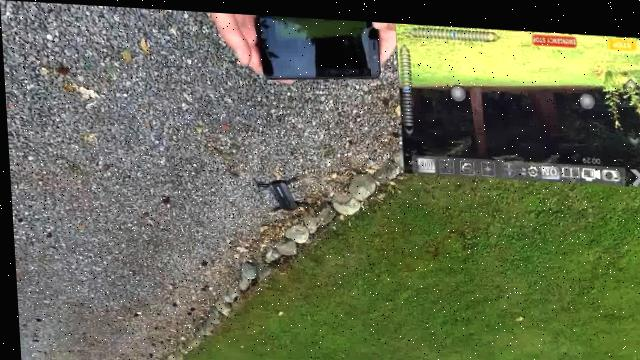drone: (227, 160, 341, 220)
